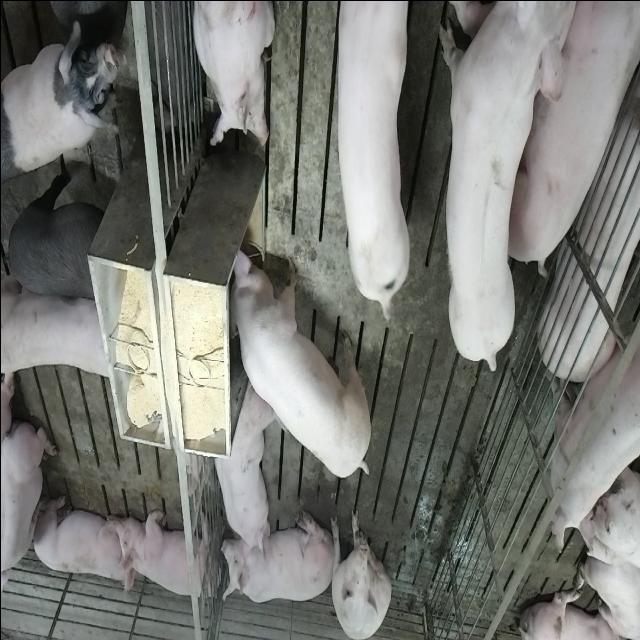Feeding: (230, 247, 376, 479)
Lateral_lying: (512, 0, 640, 271), (538, 42, 640, 380)
Sitting: (328, 505, 391, 639)
Standing: (434, 3, 564, 380), (329, 0, 412, 319), (550, 305, 640, 549), (2, 17, 121, 175), (2, 164, 109, 305), (2, 273, 120, 384)
Sternal_lying: (190, 0, 274, 150), (209, 378, 270, 558), (222, 509, 328, 608), (3, 416, 56, 604), (29, 491, 130, 588), (117, 505, 214, 603)
